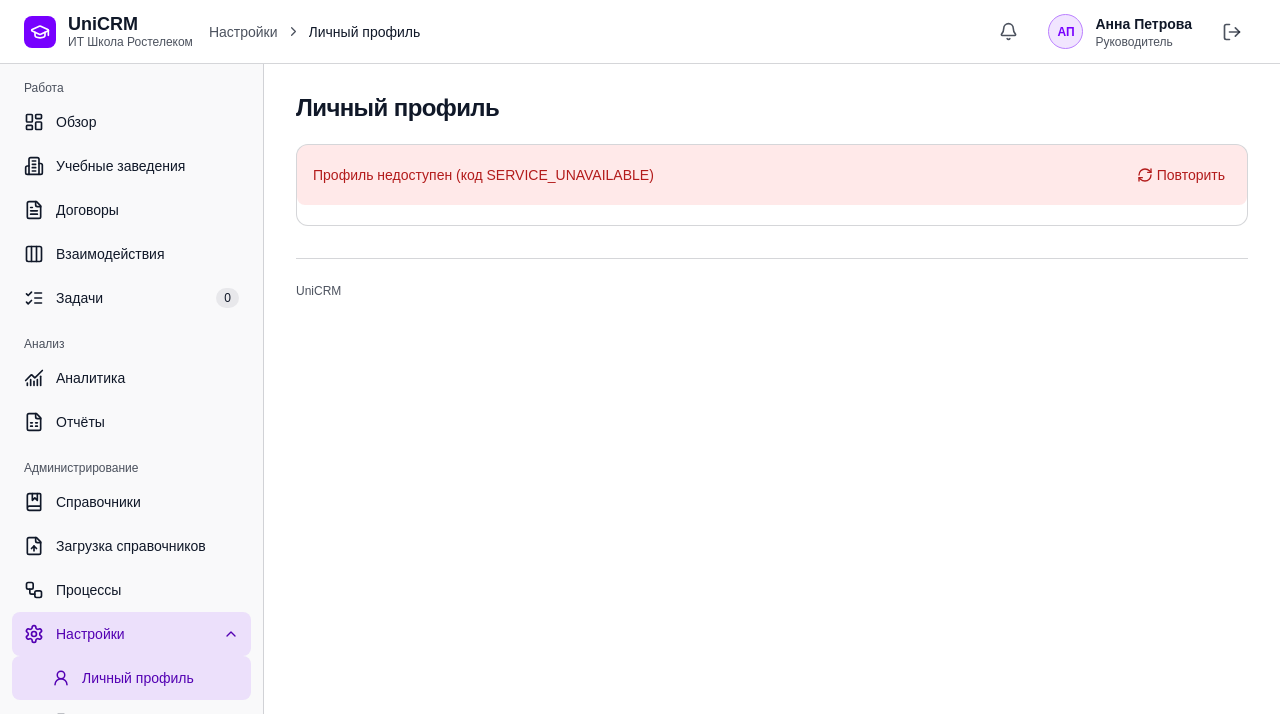
Test case: settings profile — personal data › announces loading and offers a retry when the profile cannot be loaded
Check: the text "Профиль недоступен (код SERVICE_UNAVAILABLE) Повторить" is shown, box [297,145,1247,205]
Click the button "Повторить" at (1181, 175), box [1131,157,1231,193]
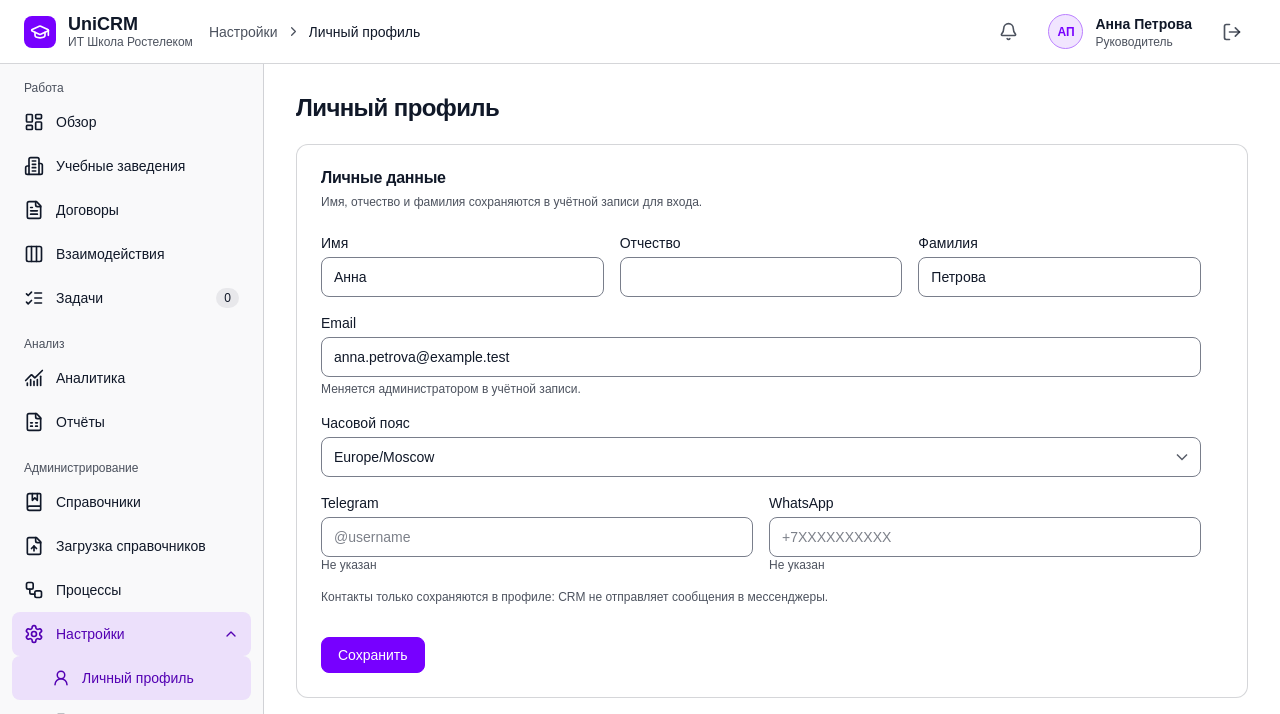
Check: the field labelled "Фамилия" is shown, box [918,257,1201,297]
